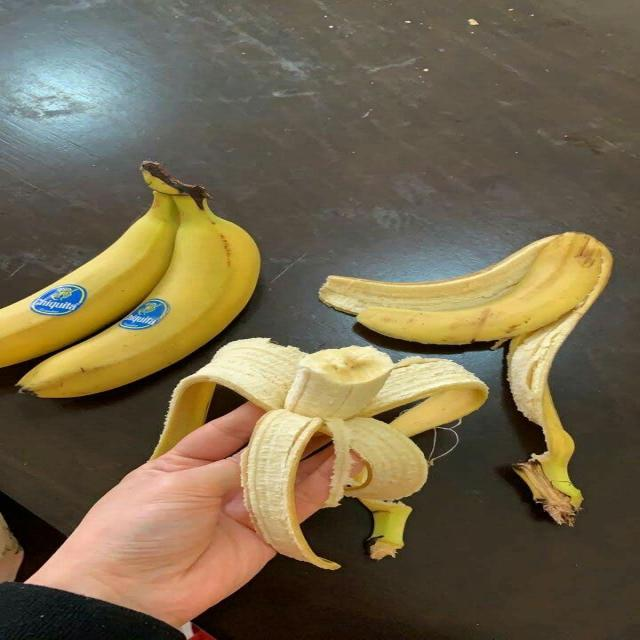unpeal banana: (320, 233, 612, 524), (154, 338, 487, 568), (19, 163, 259, 397), (0, 193, 177, 365)
